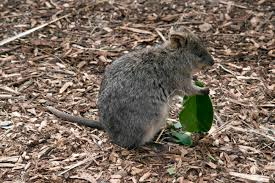quokka: (28, 29, 218, 168)
